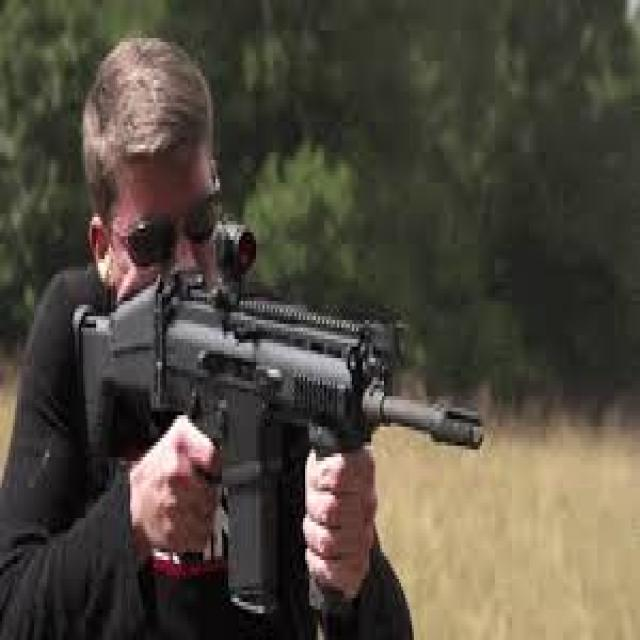gun: (55, 193, 513, 629)
